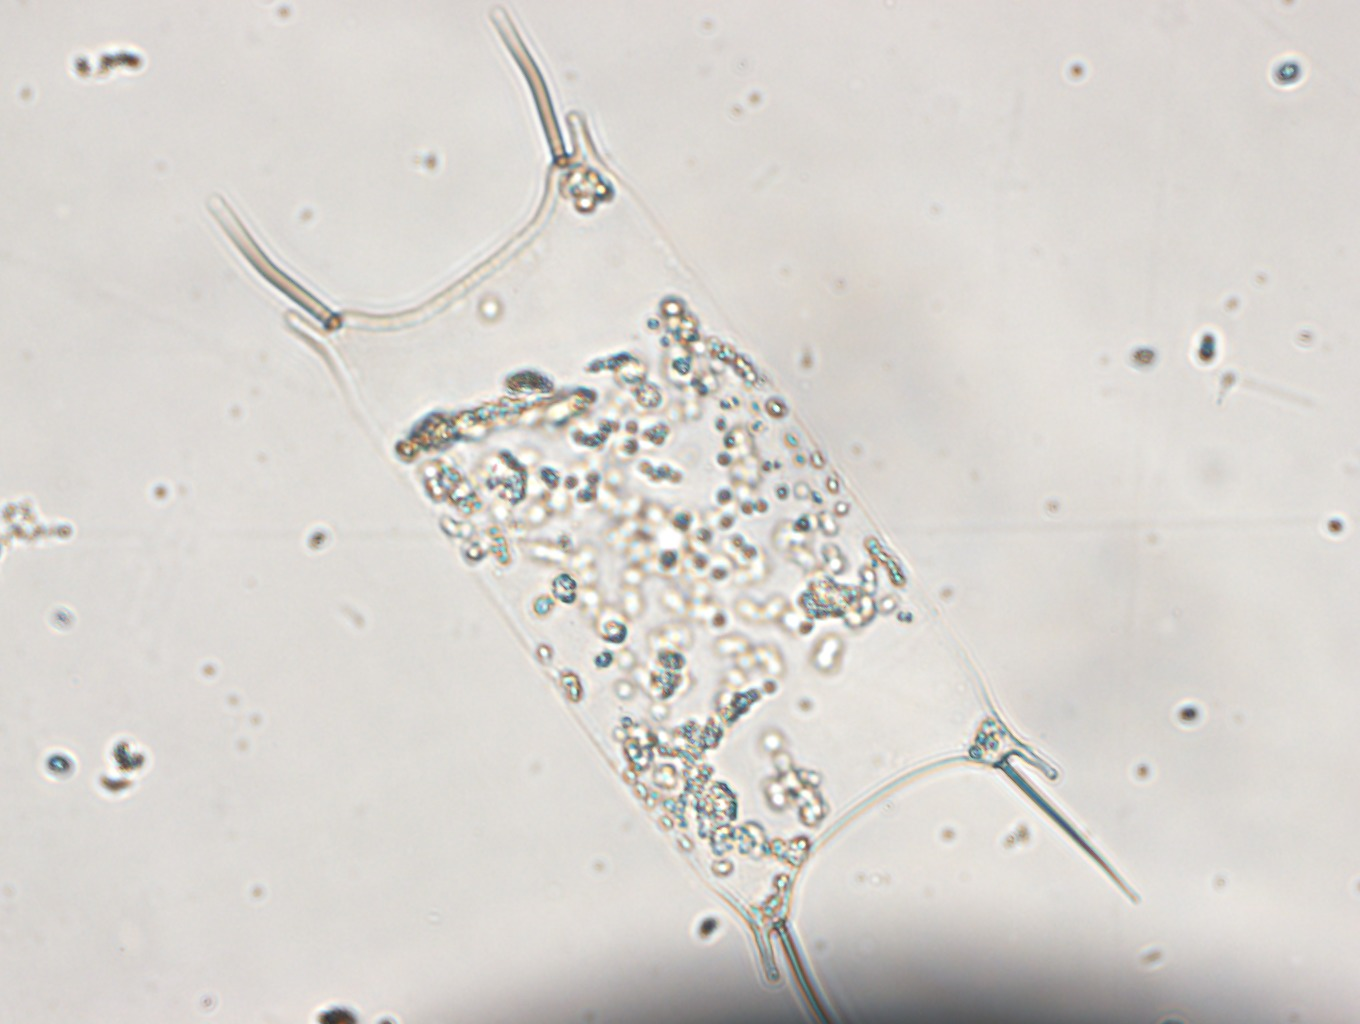biddulphia: (198, 2, 1137, 1023)
